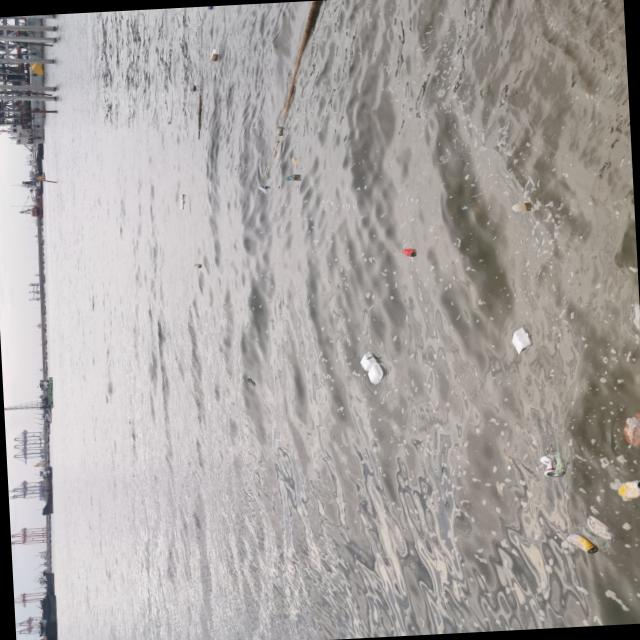can: (567, 532, 598, 556), (540, 454, 563, 478), (617, 479, 640, 499), (402, 249, 415, 258), (287, 175, 297, 182), (260, 186, 268, 194), (208, 7, 215, 11), (195, 265, 202, 269)
foam: (360, 352, 385, 386), (512, 327, 533, 354), (181, 194, 186, 210)
